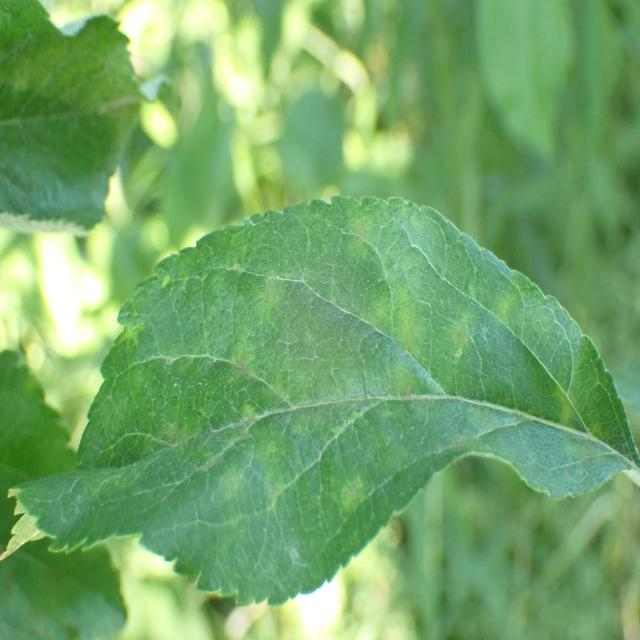scab: (126, 228, 620, 590)
